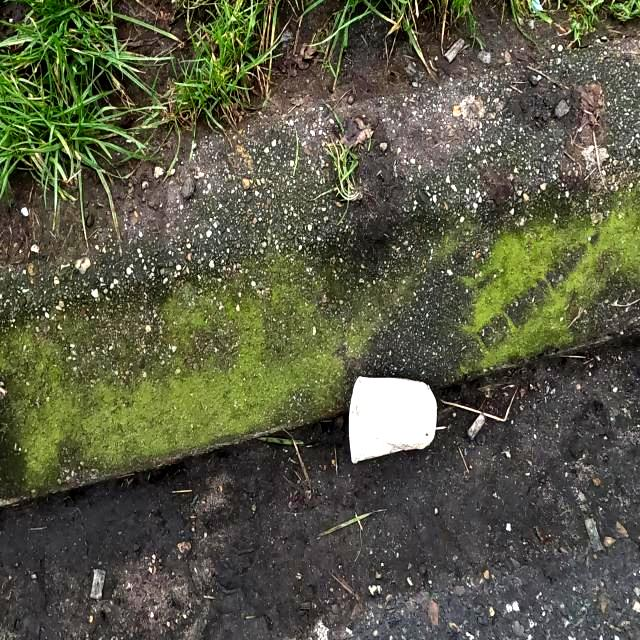Coffee Cup: (345, 372, 439, 466)
